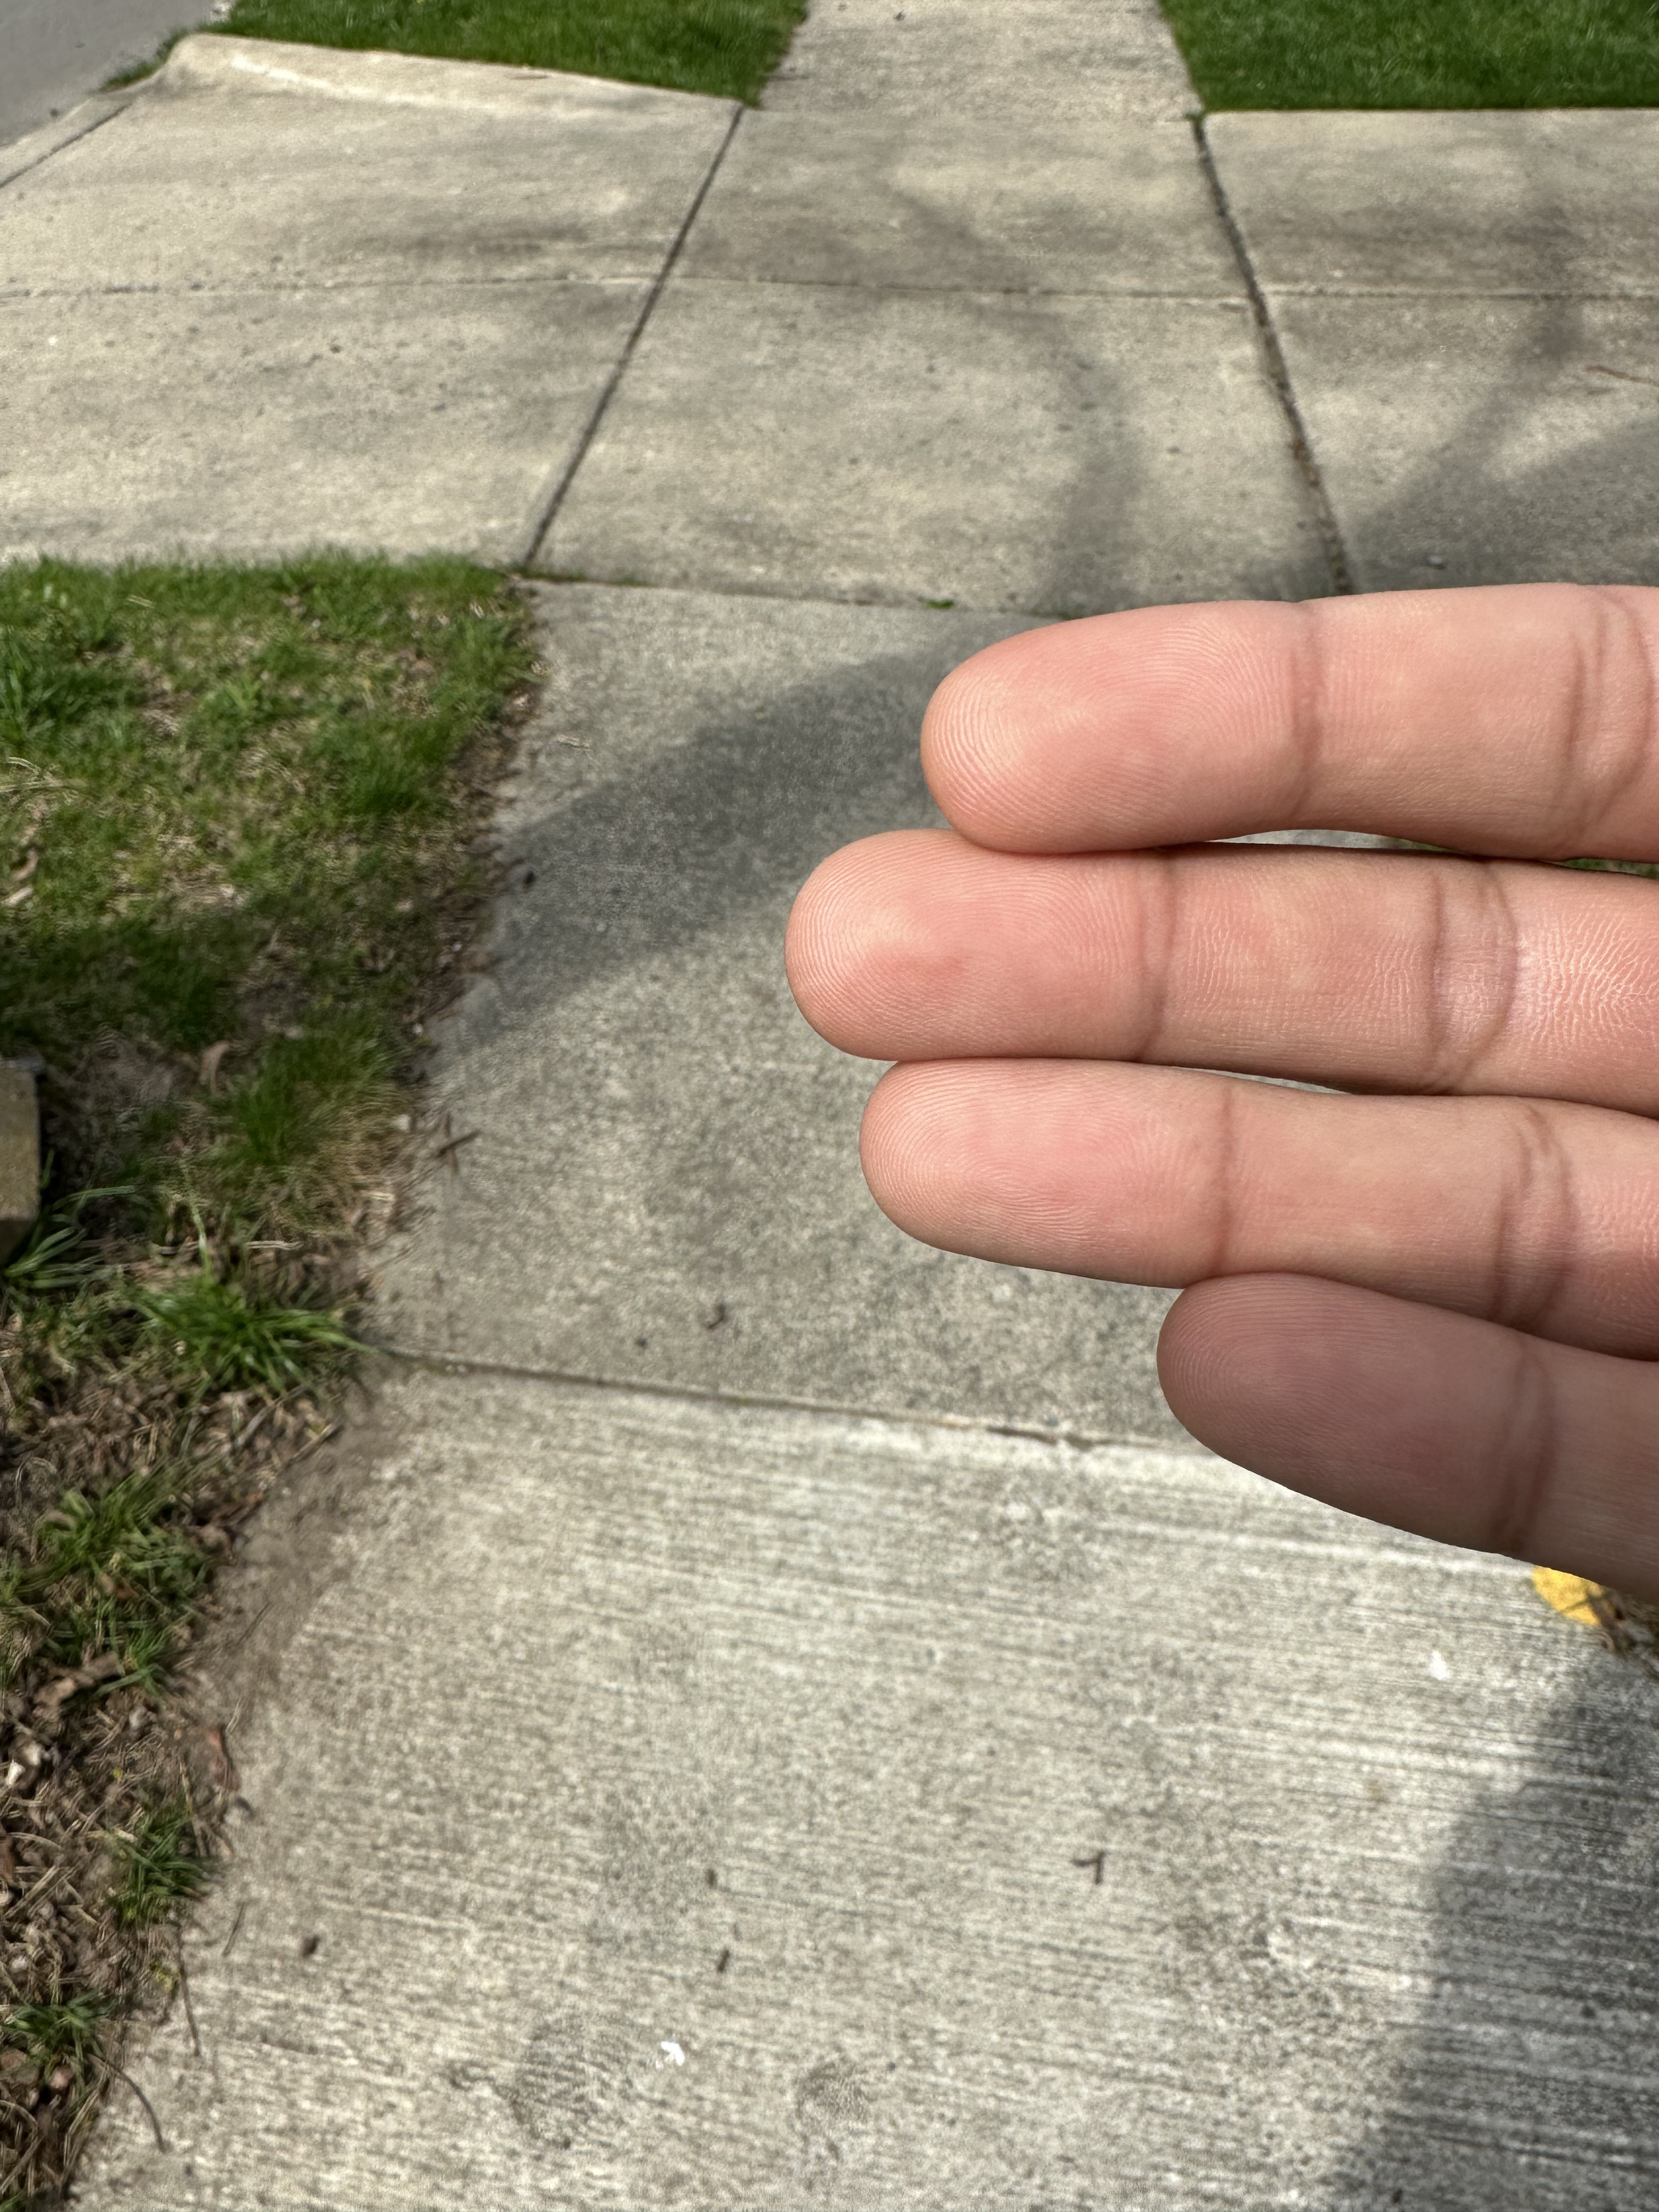finger: (911, 610, 1309, 862), (772, 834, 1178, 1057), (1141, 1277, 1528, 1503), (843, 1059, 1232, 1278)
